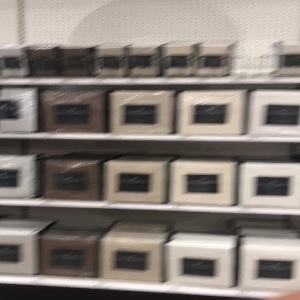void: (231, 1, 274, 78)
